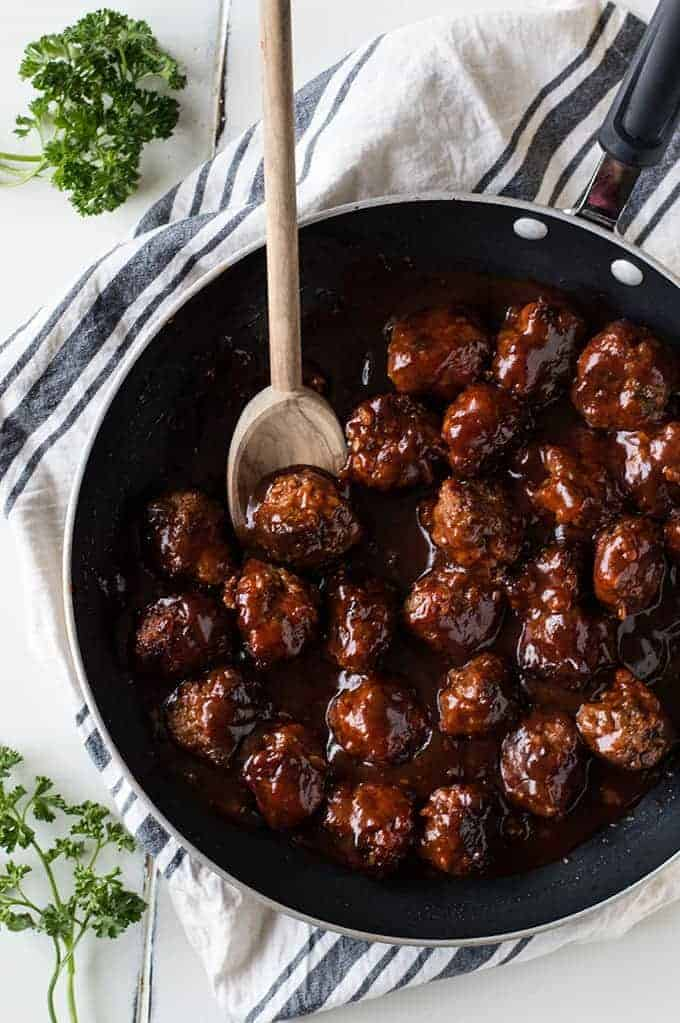meatballs: (514, 545, 598, 685), (342, 400, 439, 493), (332, 774, 424, 868), (225, 558, 314, 651), (580, 325, 661, 423), (573, 691, 673, 770), (329, 672, 416, 761), (491, 722, 575, 814), (256, 478, 355, 554), (391, 305, 474, 395), (413, 566, 503, 647), (433, 482, 518, 562), (525, 422, 600, 512), (252, 730, 325, 822), (135, 496, 220, 575), (588, 522, 665, 609), (128, 596, 216, 672), (420, 783, 495, 870), (180, 669, 255, 753), (496, 303, 567, 387), (324, 588, 403, 660), (614, 422, 680, 505), (449, 396, 520, 471), (438, 667, 515, 733)
